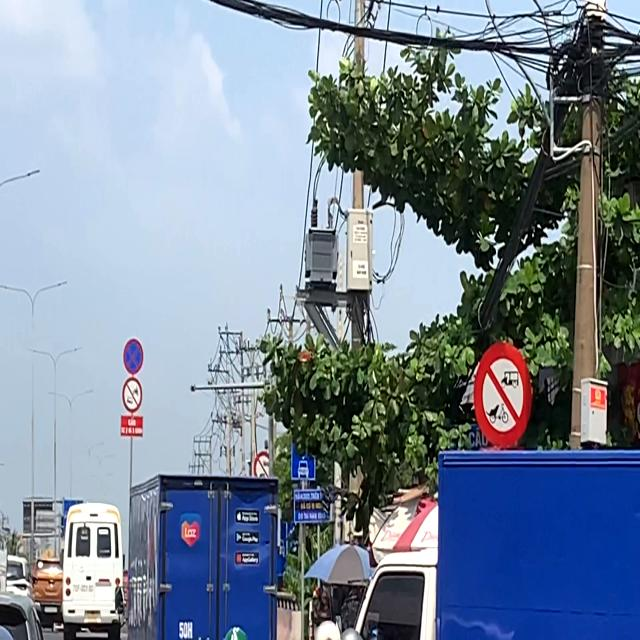P.130: (122, 336, 144, 377)
